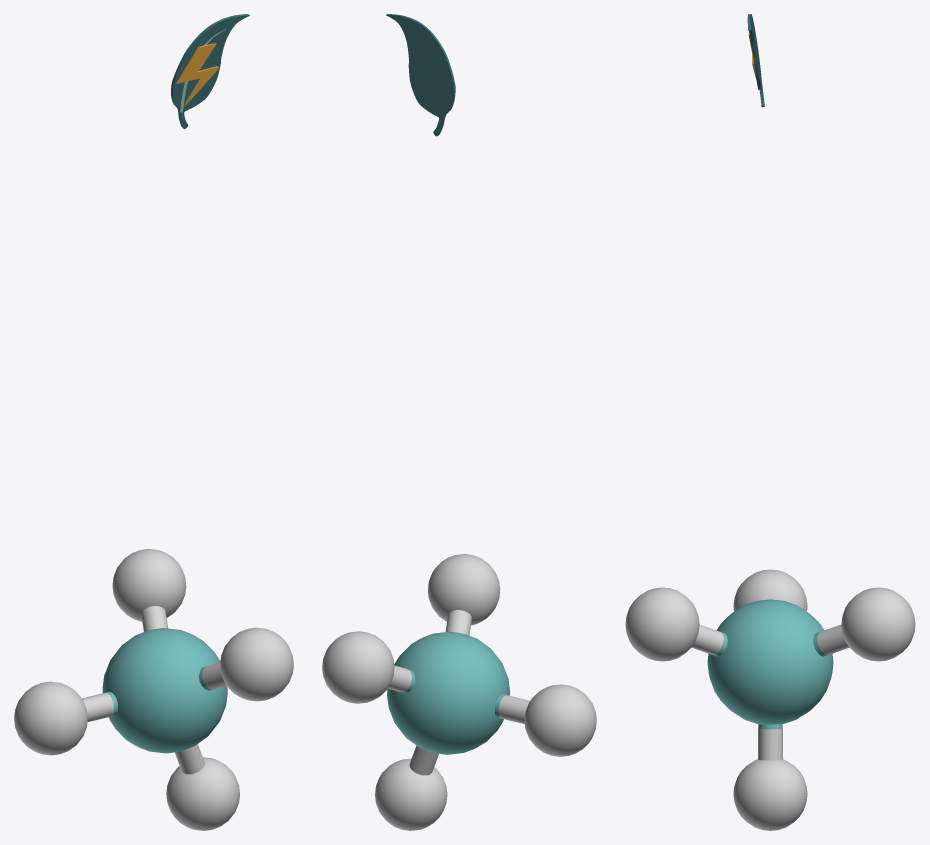
The model's file is tetra.glb.
3 renders of one model, left to right at view 1: azimuth 30°, elevation 25°; view 2: azimuth 150°, elevation 25°; view 3: azimuth 270°, elevation 25°, orthographic. The views are drawn at different scales.
Parts seen in each view (by area): view 1: ch4_tetrahed, path182, path186; view 2: ch4_tetrahed, path182; view 3: ch4_tetrahed, path182.
Boxes of the visible parts, box(x1,y1,x2,y2) form: ch4_tetrahed: box(14, 549, 293, 830); path182: box(171, 14, 249, 128); path186: box(176, 43, 218, 105); ch4_tetrahed: box(322, 554, 596, 830); path182: box(386, 14, 455, 136); ch4_tetrahed: box(625, 569, 915, 830); path182: box(747, 14, 764, 107).
Size of the model in its own units: 1.77 by 6.26 by 2.02.
